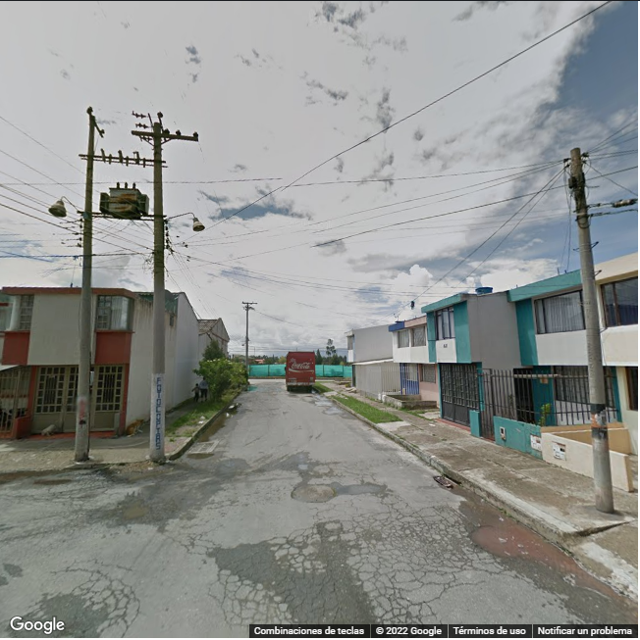D10: (424, 576, 488, 600), (162, 531, 207, 556), (51, 565, 98, 576)
D20: (211, 529, 335, 622), (388, 506, 474, 565), (74, 576, 135, 633)
